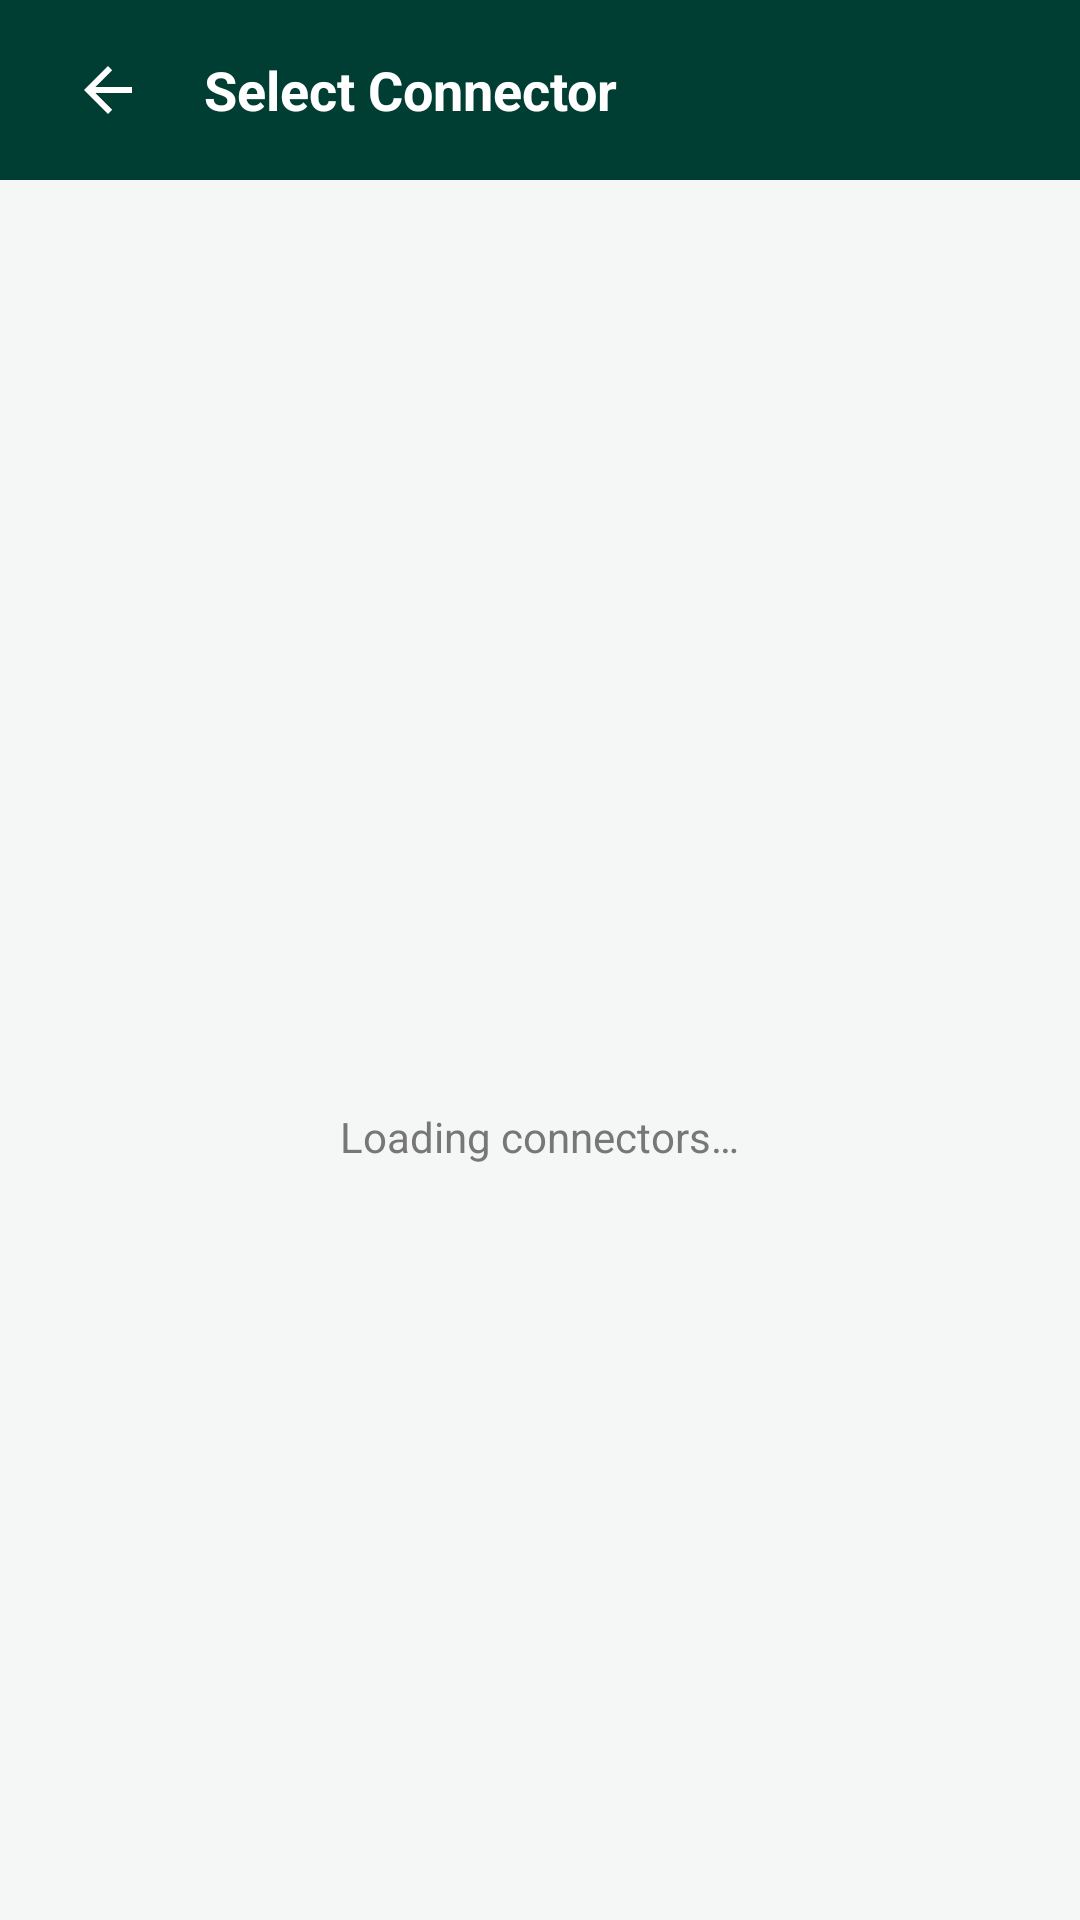

Named icons in this screenshot (1080×1920) and their bounding boxes, BBox(x1, y1, x2, y2):
Back to station details: BBox(84, 66, 132, 114)
